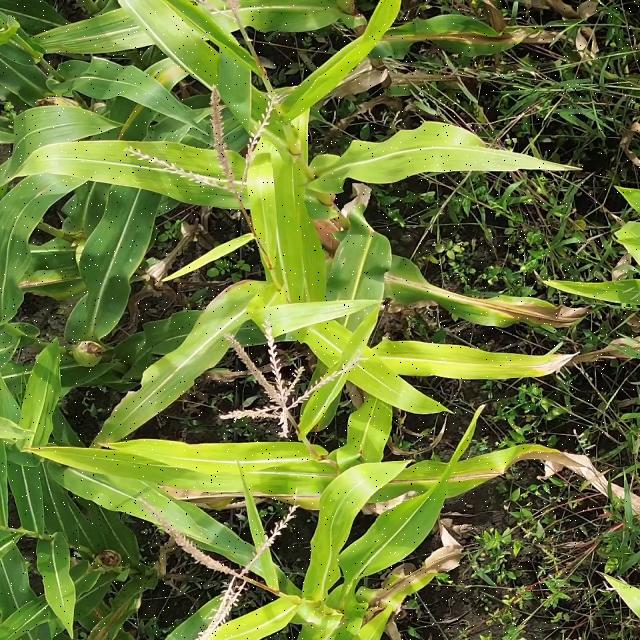gray-leaf-spot: (333, 239, 365, 305)
northern-leaf-blight: (387, 272, 590, 334), (392, 550, 463, 608), (137, 62, 199, 100), (202, 280, 260, 318)
southern-leaf-blight: (29, 262, 89, 278)
